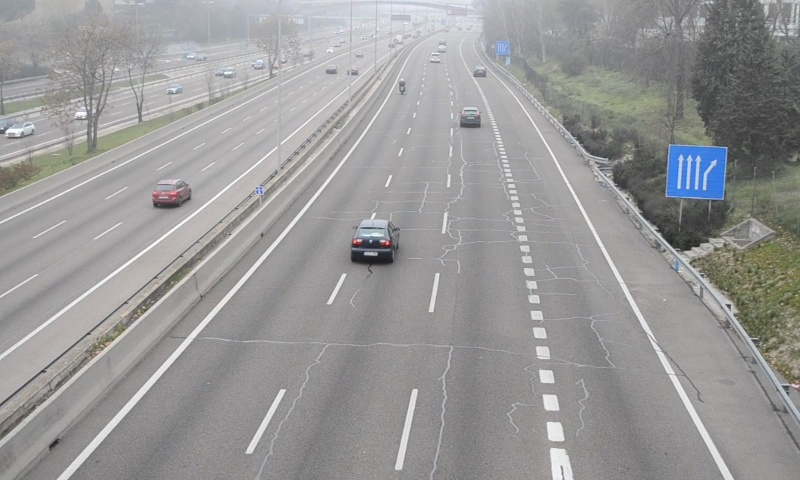car: (350, 218, 399, 263), (458, 105, 481, 128), (473, 66, 486, 77)
motorcycle: (398, 78, 405, 96)
